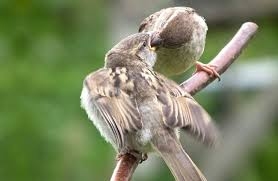hsparrow: (56, 32, 221, 162), (138, 1, 212, 77)
